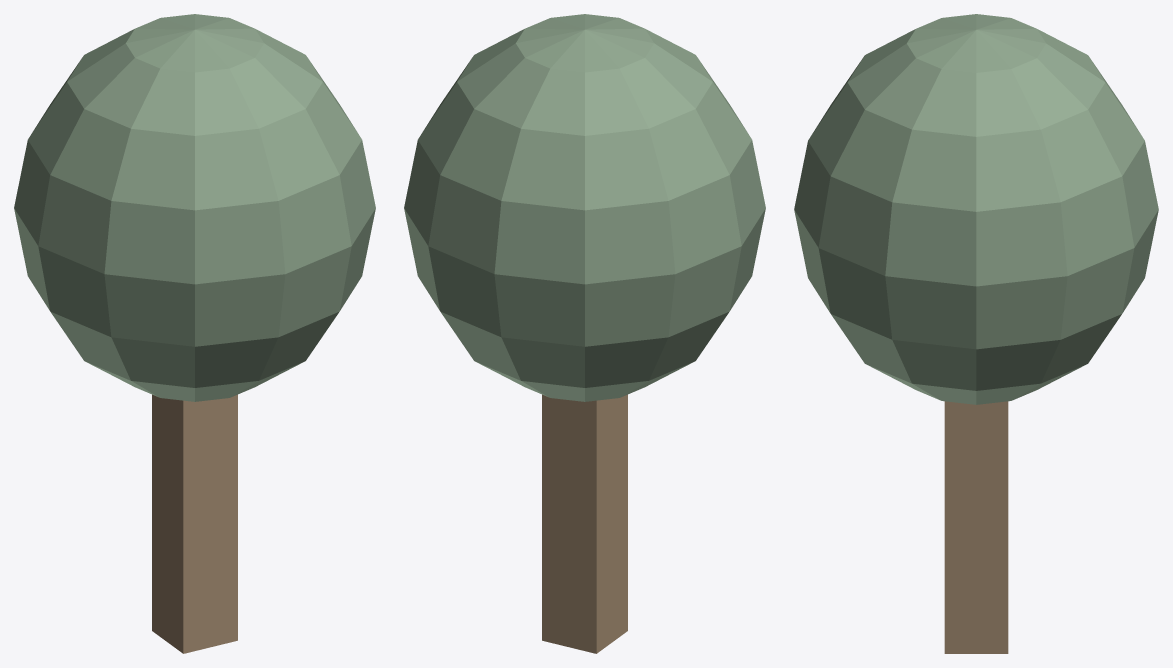
The model's file is compact-tree.glb.
3 views of the same model, side by side, from view 1: azimuth 30°, elevation 25°; view 2: azimuth 150°, elevation 25°; view 3: azimuth 270°, elevation 25° (orthographic).
Bounding box in the file's own units: 0.115 × 0.2125 × 0.115.
